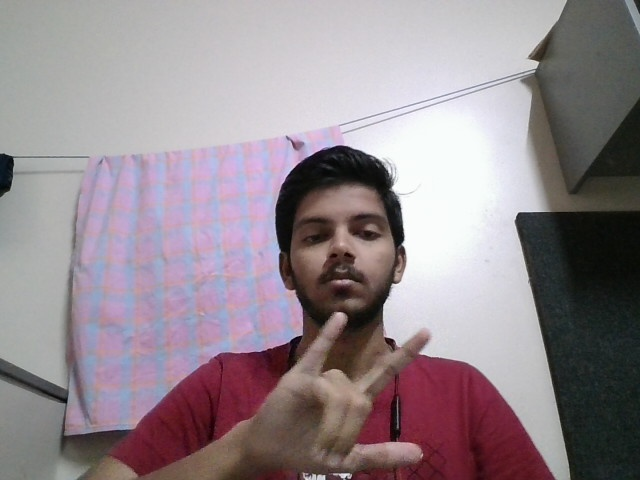I Love You: (236, 311, 443, 476)
